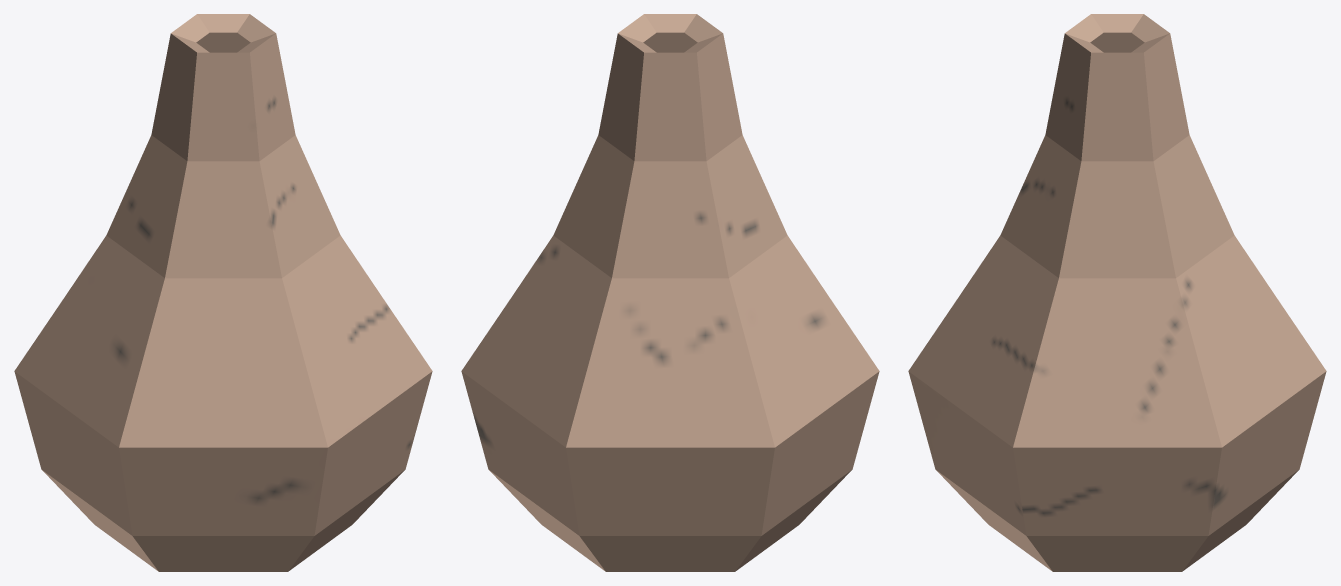
Rendered from Vaso2.fbx.
3 renders of one model, left to right at view 1: azimuth 30°, elevation 25°; view 2: azimuth 150°, elevation 25°; view 3: azimuth 270°, elevation 25°, orthographic.
Parts seen in each view (by area): view 1: Vaso2; view 2: Vaso2; view 3: Vaso2.
Boxes of the visible parts, left/top/right/bottom form: Vaso2: left=14, top=14, right=432, bottom=571; Vaso2: left=461, top=14, right=879, bottom=571; Vaso2: left=908, top=14, right=1326, bottom=571.
Size of the model in its own units: 223 by 334 by 257.
1 material, 1 textured.
